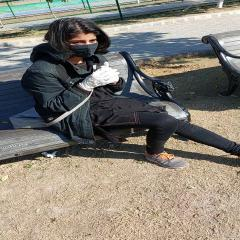gloved: (77, 68, 117, 87)
